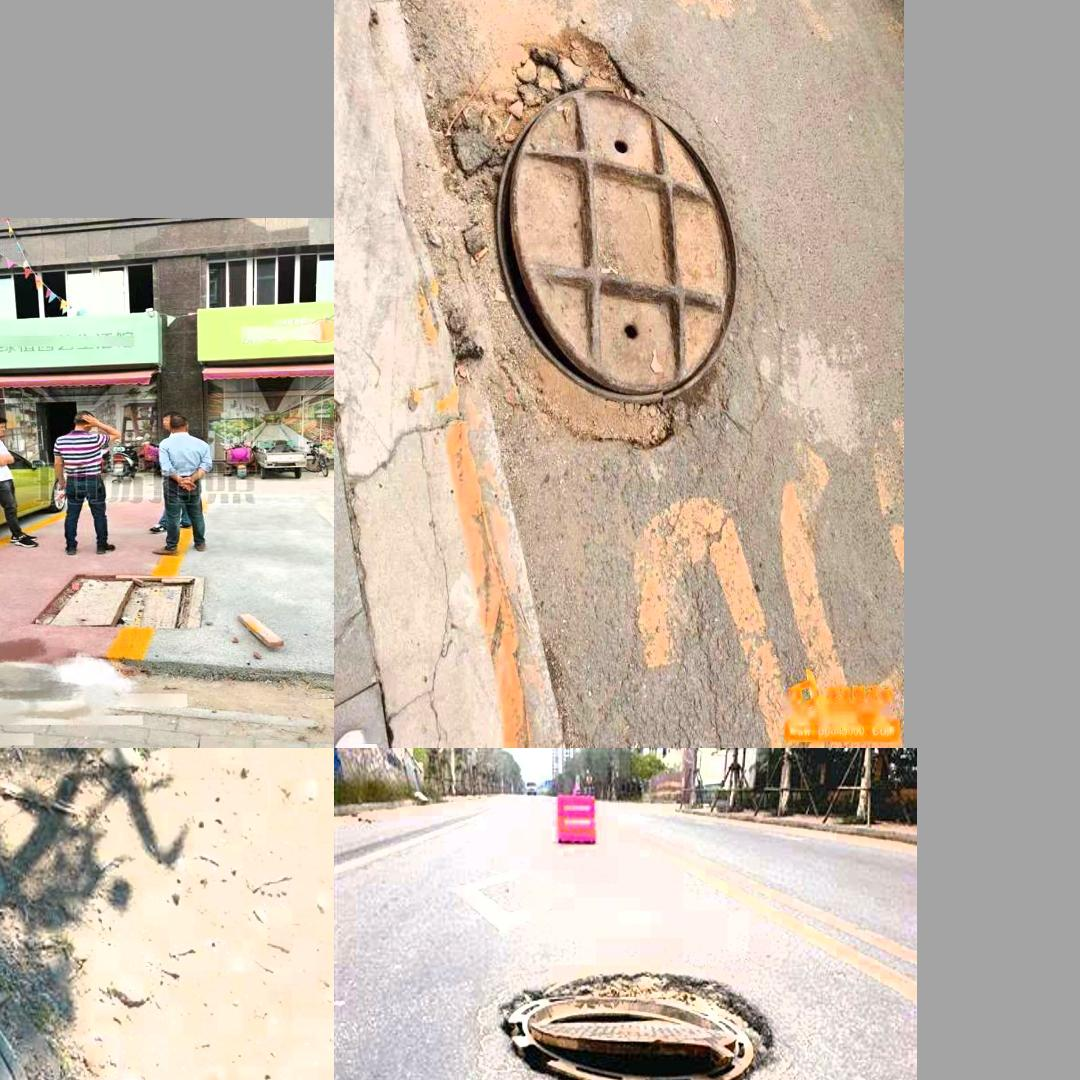circle: (399, 21, 777, 476), (440, 956, 814, 1080), (0, 937, 148, 1080), (39, 575, 204, 631)
